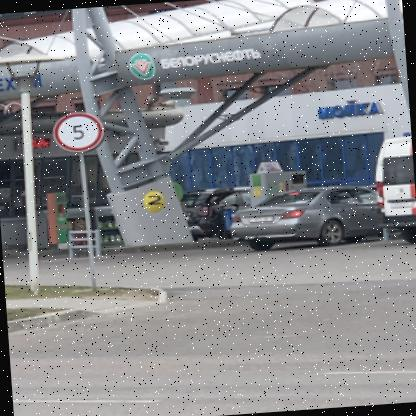speedlimit: (50, 108, 104, 152)
